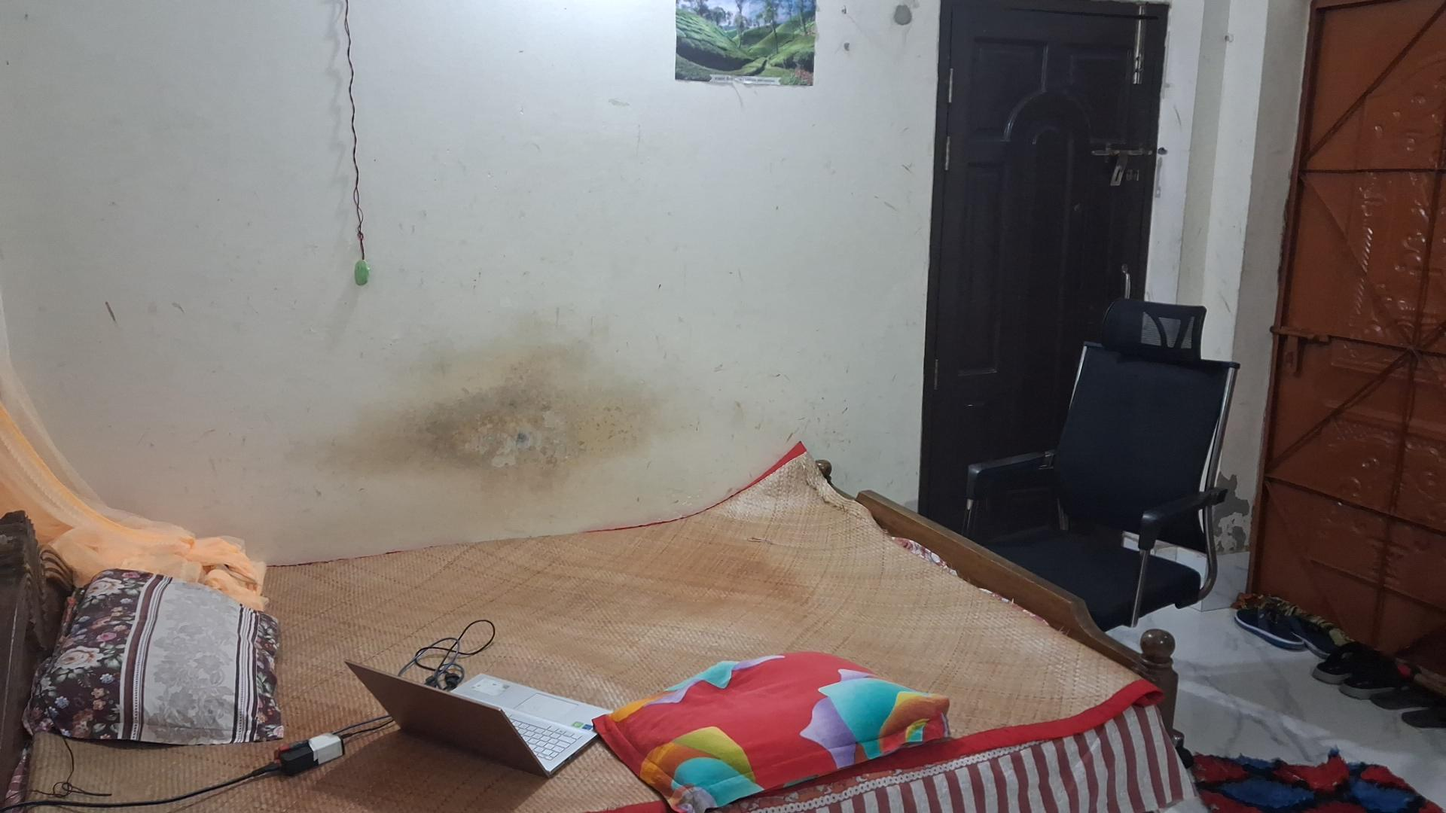Chair: (964, 337, 1240, 629)
Floor Mat: (1173, 739, 1446, 810)
Footwear: (1231, 604, 1342, 658), (1308, 644, 1427, 694)
Laptop: (346, 661, 612, 778)
Pillow: (589, 636, 961, 802), (18, 556, 294, 756)
